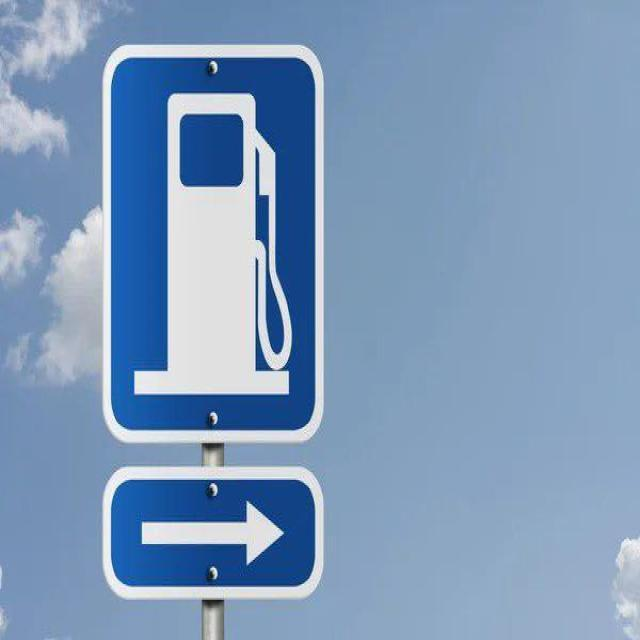petrol pump ahead: (103, 45, 328, 444)
